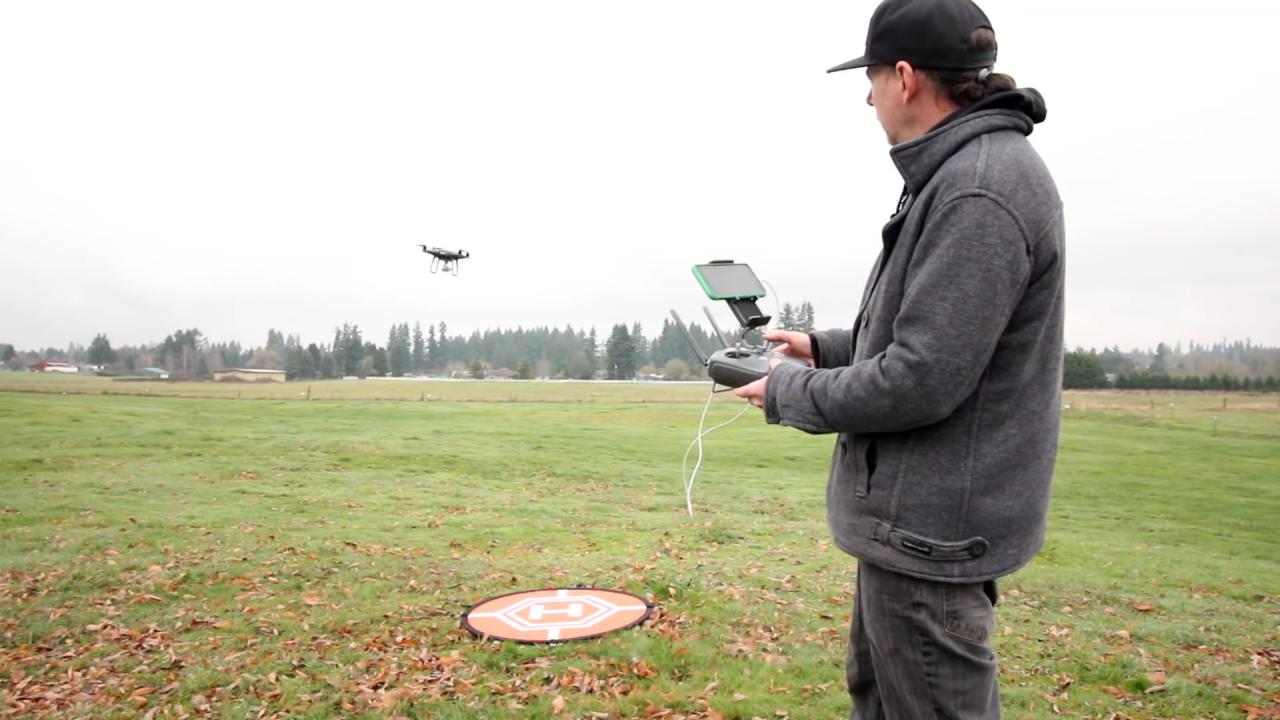Drone: (410, 229, 486, 288)
